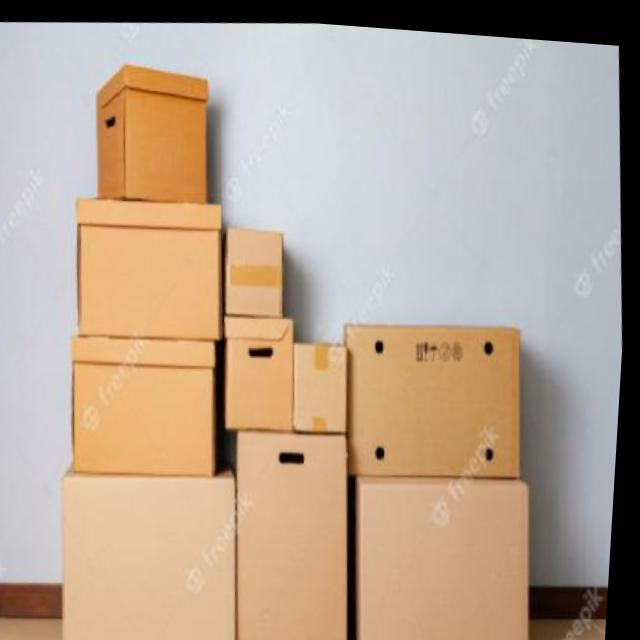box: (45, 444, 258, 640), (337, 297, 539, 494), (350, 453, 549, 640), (226, 415, 370, 640), (59, 313, 236, 489), (60, 177, 237, 348), (81, 48, 225, 207), (213, 298, 307, 438), (224, 195, 309, 324), (288, 328, 364, 428)
